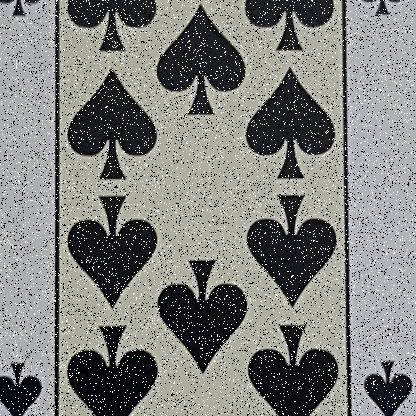10s: (350, 349, 415, 415), (0, 367, 60, 415)
